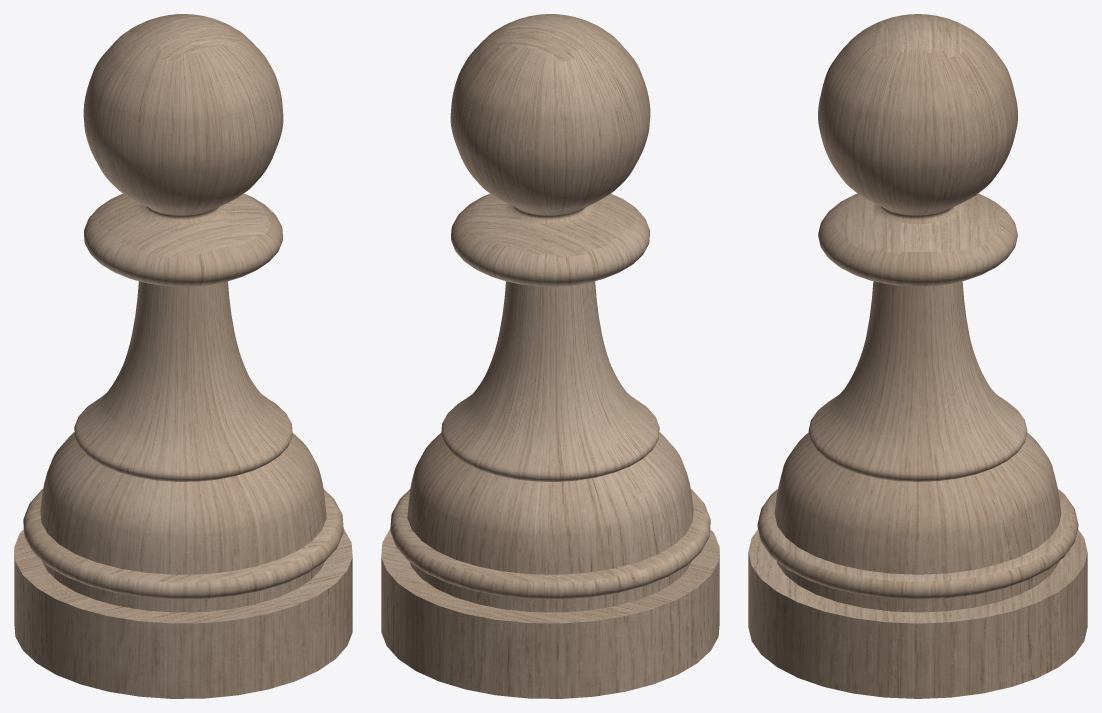
Rendered from white-pawn.glb.
3 renders of one model, left to right at view 1: azimuth 30°, elevation 25°; view 2: azimuth 150°, elevation 25°; view 3: azimuth 270°, elevation 25°, orthographic.
Visible parts, largest first — view 1: ScacchiBianchi_Pedone.008_white_0; view 2: ScacchiBianchi_Pedone.008_white_0; view 3: ScacchiBianchi_Pedone.008_white_0.
Part boxes in pixels (bbox=[...]): ScacchiBianchi_Pedone.008_white_0: bbox=[14, 14, 352, 698]; ScacchiBianchi_Pedone.008_white_0: bbox=[381, 14, 719, 698]; ScacchiBianchi_Pedone.008_white_0: bbox=[748, 14, 1087, 698].
Size of the model in its own units: 2.55 by 5 by 2.55.
Materials: 1 (1 with a texture image).
